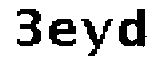3: (14, 6, 44, 49)
d: (118, 6, 151, 51)
e: (47, 16, 78, 51)
y: (77, 12, 114, 60)
